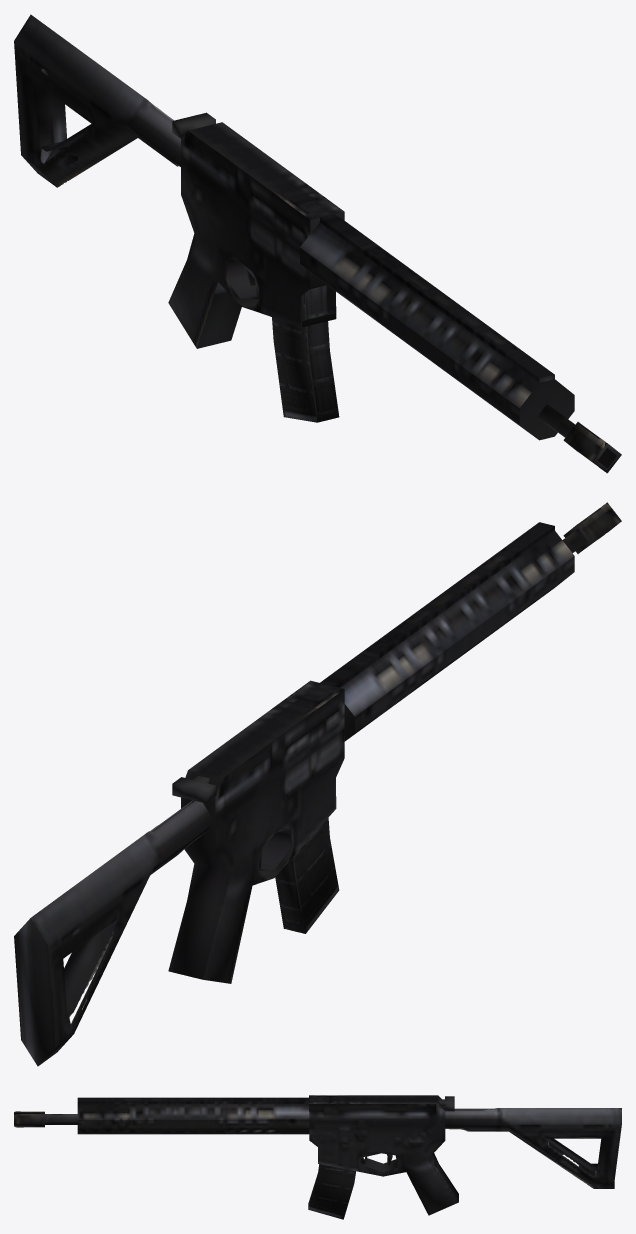
The picture shows the model from 3 angles, top to bottom: view 1: azimuth 30°, elevation 25°; view 2: azimuth 150°, elevation 25°; view 3: azimuth 270°, elevation 25°; orthographic projection. The views are drawn at different scales.
Parts seen in each view (by area): view 1: weapon, magazine, slide; view 2: weapon, magazine, slide; view 3: weapon, magazine, slide.
Boxes of the visible parts, x1,y1,x2,y2 form: weapon: (14, 14, 621, 473); magazine: (272, 285, 339, 422); slide: (172, 112, 245, 172); weapon: (14, 502, 621, 1066); magazine: (275, 818, 339, 933); slide: (172, 754, 254, 803); weapon: (14, 1095, 621, 1215); magazine: (308, 1164, 355, 1219); slide: (438, 1096, 454, 1111).
Size of the model in its own units: 29.02 by 527 by 112.
1 material, 1 textured.
